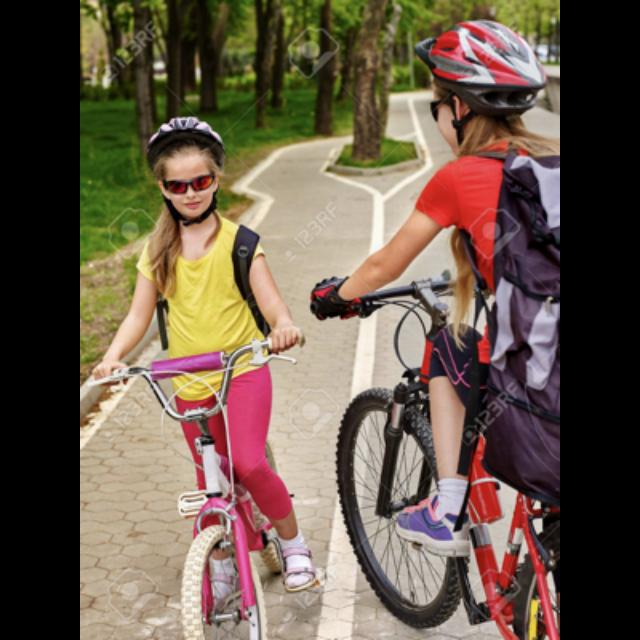With Helmet: (426, 15, 554, 164), (139, 109, 233, 223)
